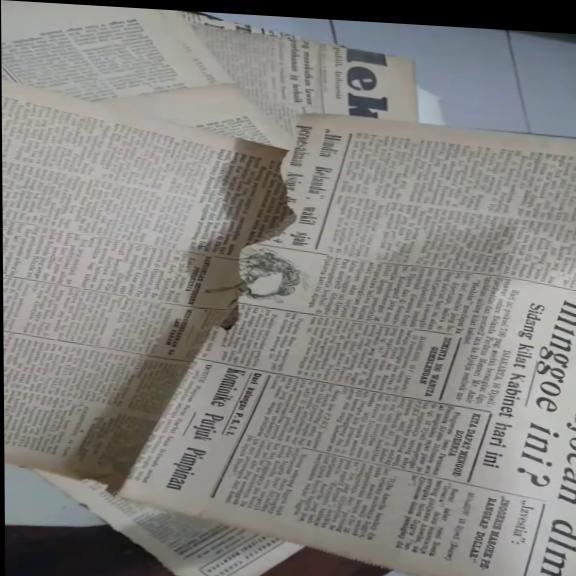Kertas: (1, 82, 297, 483), (309, 128, 576, 288)
